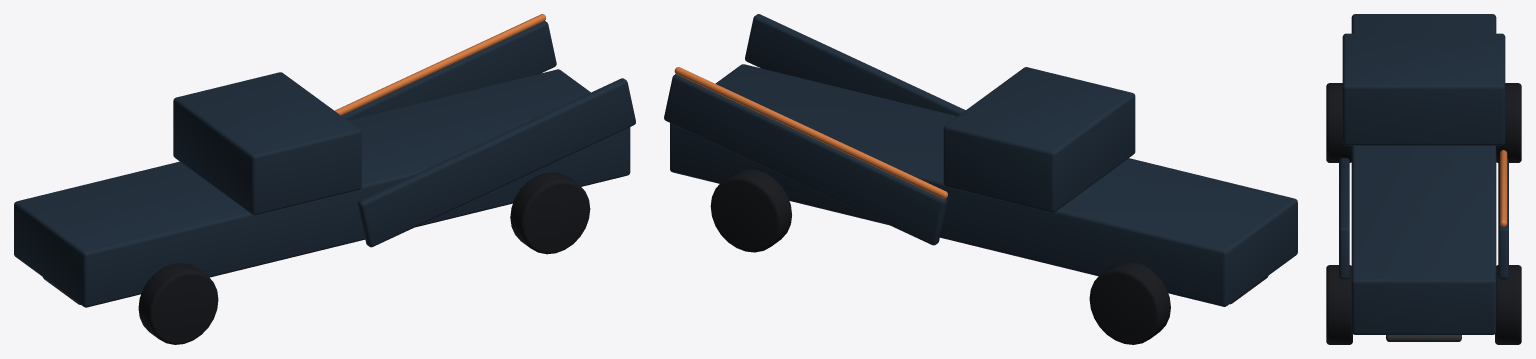
3 renders of one model, left to right at view 1: azimuth 30°, elevation 25°; view 2: azimuth 150°, elevation 25°; view 3: azimuth 270°, elevation 25°, orthographic.
Visible parts, largest first — view 1: HerosTruckMark; view 2: HerosTruckMark; view 3: HerosTruckMark.
Boxes of the visible parts, <box> form: HerosTruckMark: <box>14,14,635,344</box>; HerosTruckMark: <box>664,14,1297,344</box>; HerosTruckMark: <box>1326,14,1521,344</box>.
Bounding box in the file's own units: 3.49 × 1 × 1.08.
